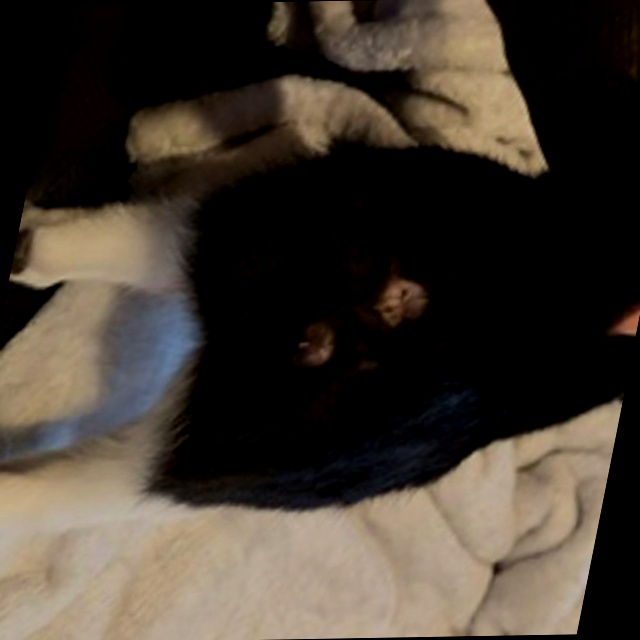lump_and_bump: (372, 283, 432, 325), (290, 326, 341, 366)
